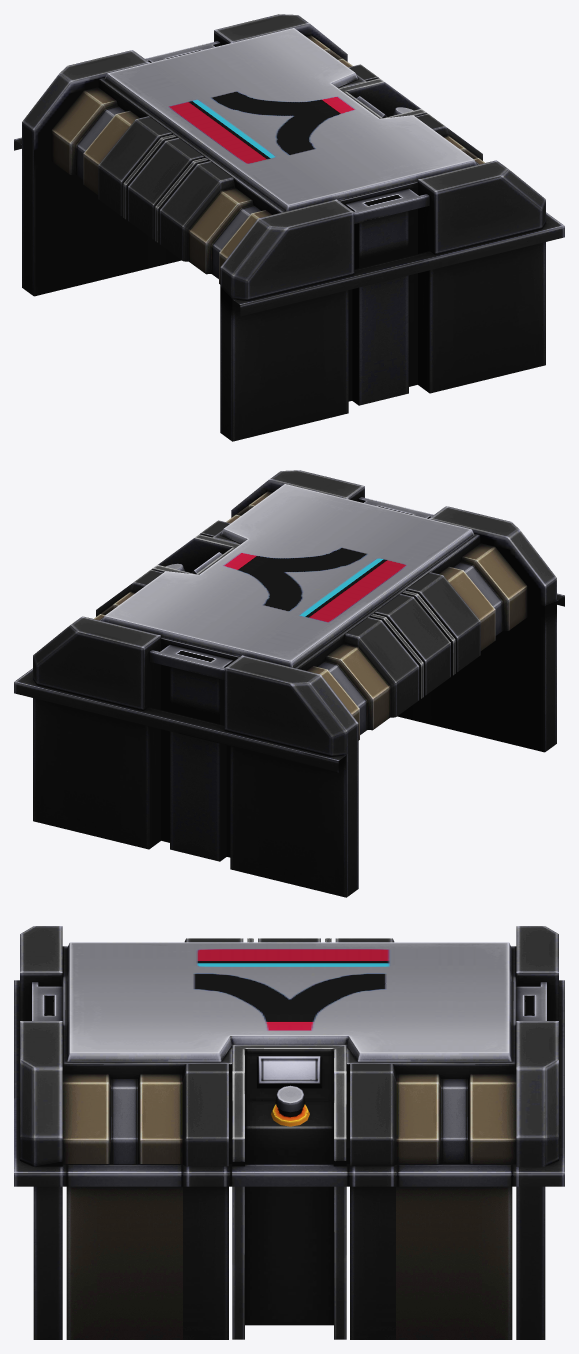
File: trap_208_mufrst.fbx
3 renders of one model, top to bottom at view 1: azimuth 30°, elevation 25°; view 2: azimuth 150°, elevation 25°; view 3: azimuth 270°, elevation 25°, orthographic. The views are drawn at different scales.
Visible parts, largest first — view 1: trap_208_mufrst; view 2: trap_208_mufrst; view 3: trap_208_mufrst.
Part boxes in pixels (box(x1,y1,x2,y2)): trap_208_mufrst: box(14, 14, 564, 441); trap_208_mufrst: box(14, 470, 564, 897); trap_208_mufrst: box(14, 926, 564, 1339).
Size of the model in its own units: 0.5856 by 0.3588 by 0.7079.
1 material, 1 textured.
